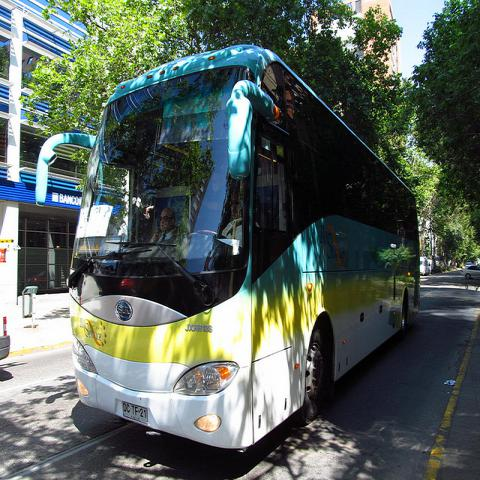bus: (33, 39, 422, 450)
car: (0, 313, 11, 362), (460, 265, 480, 279), (420, 256, 430, 276)
